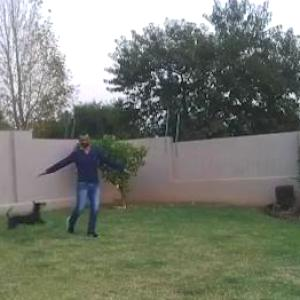land: (41, 128, 125, 228)
